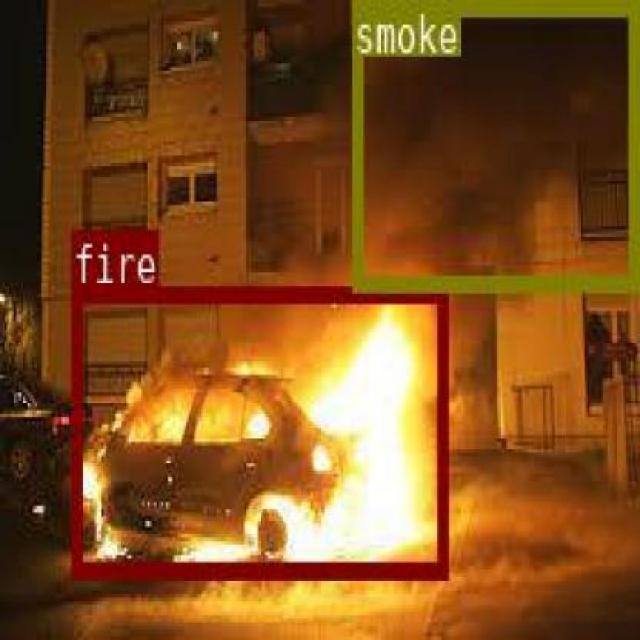CIV_Plane: (70, 286, 447, 576)
Fire: (70, 286, 447, 576)
Smoke: (350, 0, 635, 216)
